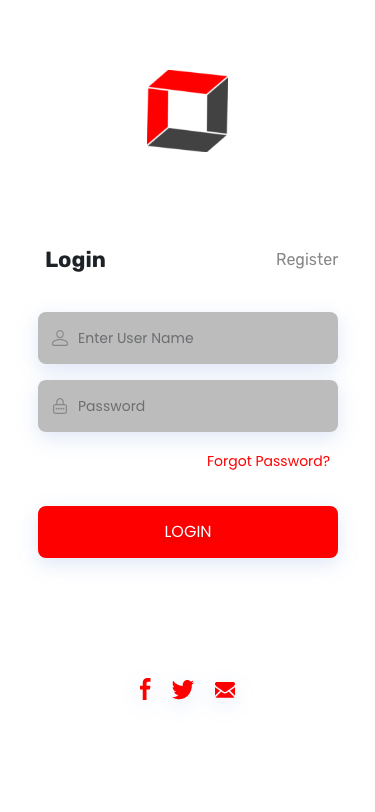EditText: (38, 380, 338, 433), (39, 312, 339, 365)
Icon: (173, 680, 195, 700), (216, 682, 236, 698), (53, 330, 69, 347), (141, 678, 152, 700), (54, 398, 68, 415)
Image: (147, 70, 229, 154)
Text: (208, 456, 330, 471), (47, 251, 106, 273), (80, 333, 194, 344), (277, 252, 338, 270), (79, 400, 145, 412)
TextButton: (38, 507, 338, 559)
